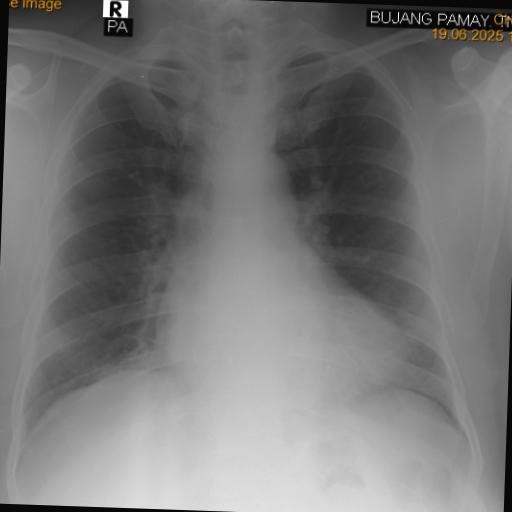kardiomegali: (8, 10, 492, 466)
